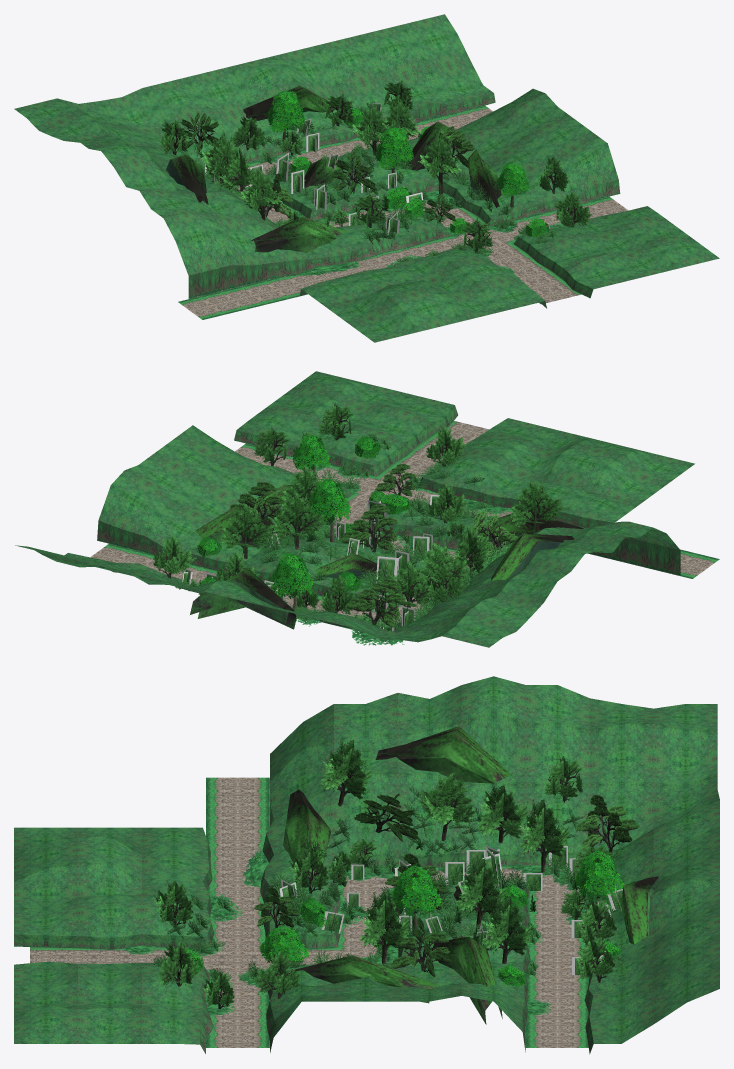
Rendered from field_BG.fbx.
3 renders of one model, top to bottom at view 1: azimuth 30°, elevation 25°; view 2: azimuth 150°, elevation 25°; view 3: azimuth 270°, elevation 25°, orthographic. The views are drawn at different scales.
Parts seen in each view (by area): view 1: field_wall_poly85, field_wall_poly69, field_wall_poly67, field_wall_poly70, wood_poly4, nomal_tree_poly1, nomal_tree_poly2, wood_poly2, big, wood_poly3, tree_trunk_poly2, tree_trunk_poly9 (+23 smaller); view 2: field_wall_poly85, field_wall_poly69, field_wall_poly67, field_wall_poly70, big, tree_trunk_poly5, tree_trunk_poly6, wood_poly2, tree_trunk_poly9, matsu_poly4, nomal_tree_poly1, matsu_poly1 (+26 smaller); view 3: field_wall_poly85, field_wall_poly67, field_wall_poly70, field_wall_poly69, wood_poly2, wood_poly3, wood_poly4, wood_poly5, tree_trunk_poly4, tree_trunk_poly9, tree_trunk_poly10, tree_trunk_poly6 (+42 smaller).
Boxes of the visible parts, left/top/right/bottom form: field_wall_poly85: left=14, top=14, right=495, bottom=298; field_wall_poly69: left=264, top=88, right=620, bottom=226; field_wall_poly67: left=300, top=246, right=546, bottom=342; field_wall_poly70: left=514, top=206, right=719, bottom=298; wood_poly4: left=251, top=216, right=344, bottom=252; nomal_tree_poly1: left=267, top=91, right=305, bottom=141; nomal_tree_poly2: left=376, top=127, right=413, bottom=173; wood_poly2: left=166, top=154, right=208, bottom=204; big: left=243, top=85, right=335, bottom=120; wood_poly3: left=468, top=149, right=501, bottom=207; tree_trunk_poly2: left=418, top=133, right=461, bottom=194; tree_trunk_poly9: left=239, top=165, right=282, bottom=220; field_wall_poly85: left=15, top=500, right=680, bottom=647; field_wall_poly69: left=97, top=425, right=432, bottom=606; field_wall_poly67: left=419, top=418, right=694, bottom=528; field_wall_poly70: left=234, top=371, right=457, bottom=476; big: left=190, top=567, right=296, bottom=629; tree_trunk_poly5: left=272, top=492, right=328, bottom=549; tree_trunk_poly6: left=220, top=503, right=276, bottom=559; wood_poly2: left=491, top=533, right=574, bottom=580; tree_trunk_poly9: left=510, top=481, right=566, bottom=532; matsu_poly4: left=345, top=579, right=405, bottom=627; nomal_tree_poly1: left=268, top=553, right=314, bottom=616; matsu_poly1: left=340, top=504, right=398, bottom=552; field_wall_poly85: left=260, top=676, right=719, bottom=1054; field_wall_poly67: left=14, top=827, right=214, bottom=949; field_wall_poly70: left=14, top=961, right=213, bottom=1054; field_wall_poly69: left=266, top=882, right=530, bottom=1052; wood_poly2: left=375, top=726, right=510, bottom=783; wood_poly3: left=289, top=955, right=437, bottom=1003; wood_poly4: left=283, top=789, right=331, bottom=872; wood_poly5: left=431, top=936, right=502, bottom=1024; tree_trunk_poly4: left=415, top=772, right=475, bottom=841; tree_trunk_poly9: left=320, top=738, right=372, bottom=806; tree_trunk_poly10: left=518, top=799, right=569, bottom=872; tree_trunk_poly6: left=481, top=895, right=533, bottom=963.
Size of the model in its own units: 5125 by 1089 by 5518.
